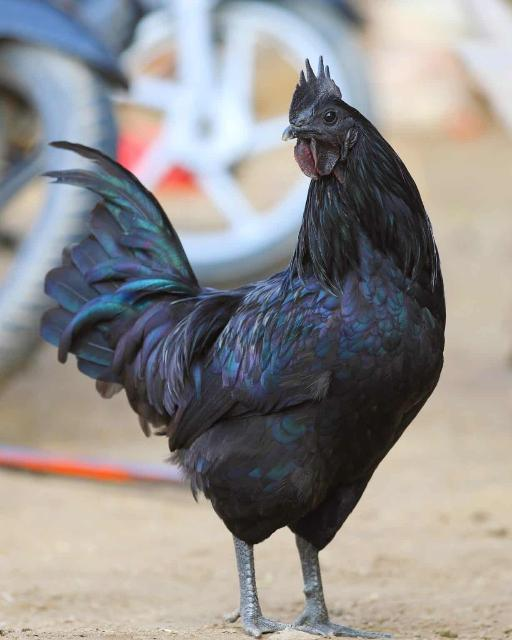Chicken: (35, 51, 445, 640)
